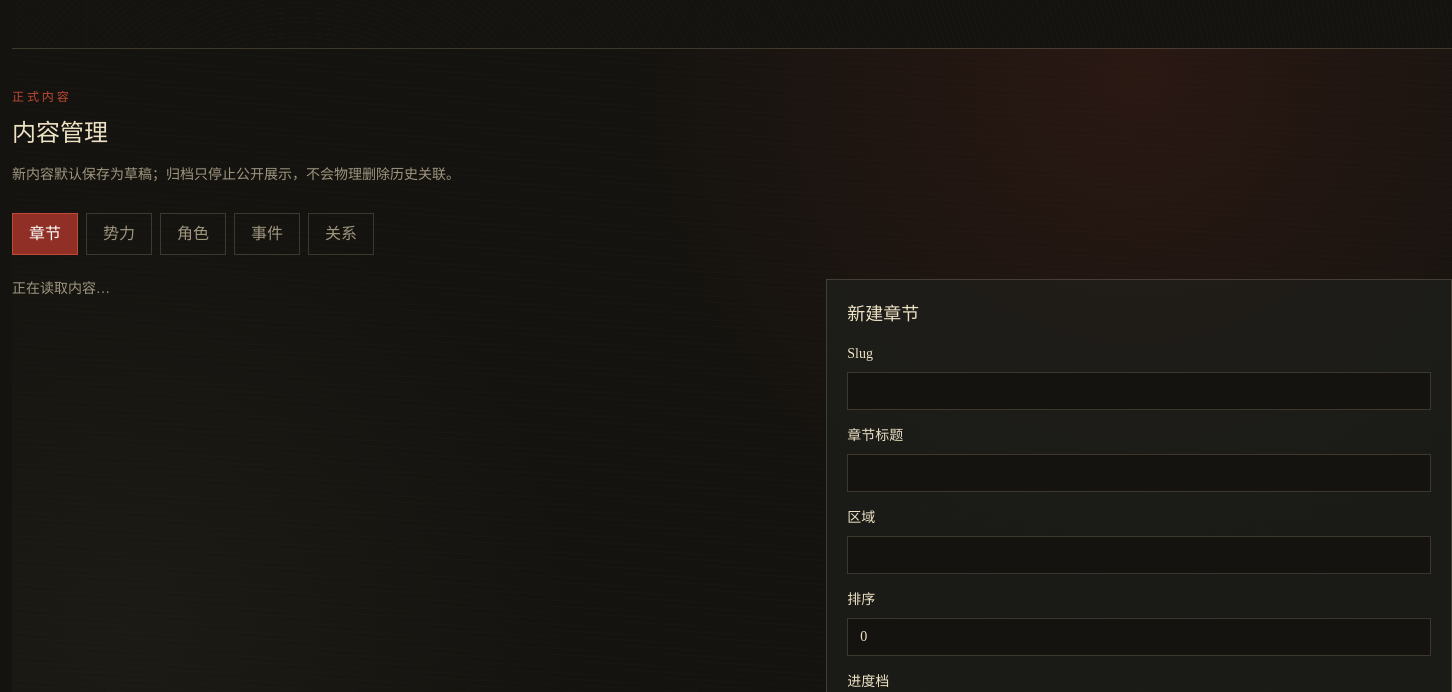
Test: ContentManager › loads resources and switches tabs
Expected: the text "正在读取内容…" is shown, left=12, top=281, right=110, bottom=296
Click the tab "关系" at (341, 234), box left=308, top=213, right=374, bottom=255
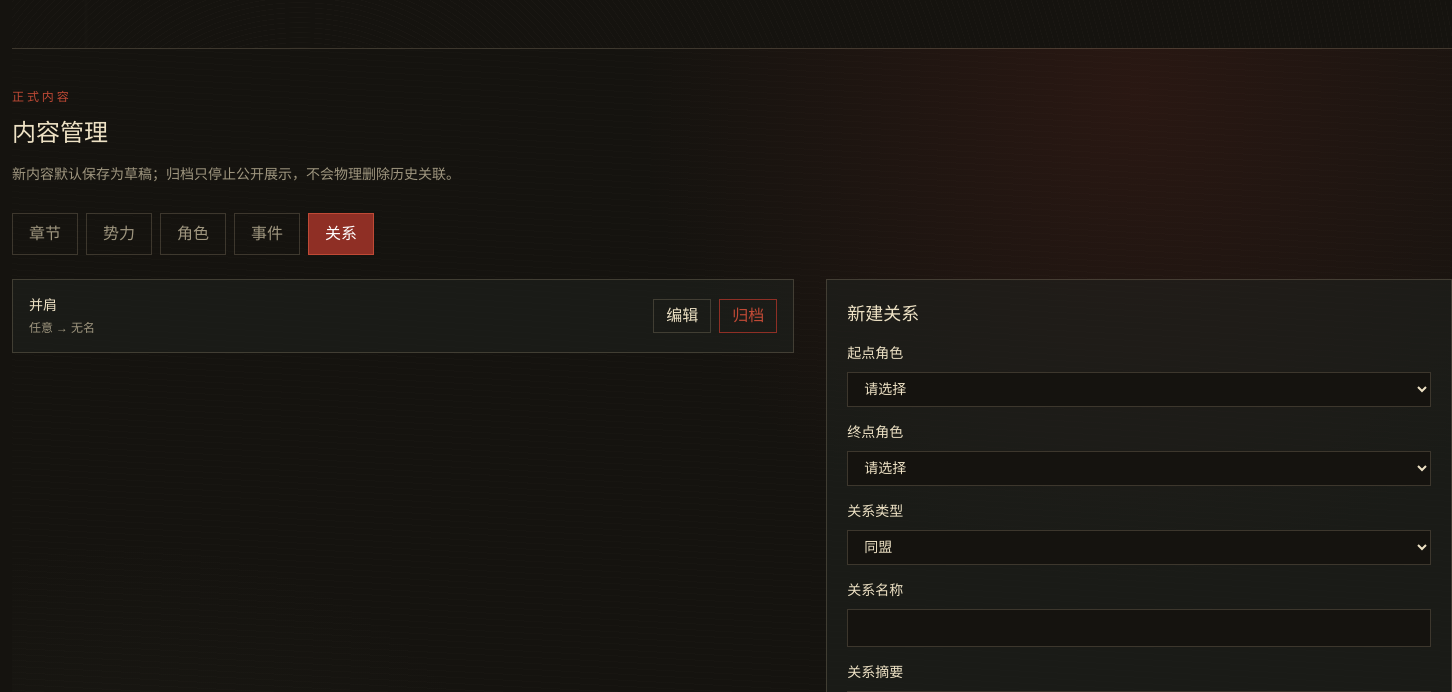
Expected: the text "并肩" is shown, left=29, top=298, right=57, bottom=313
Expected: the text "任意 → 无名" is shown, left=29, top=320, right=95, bottom=336
